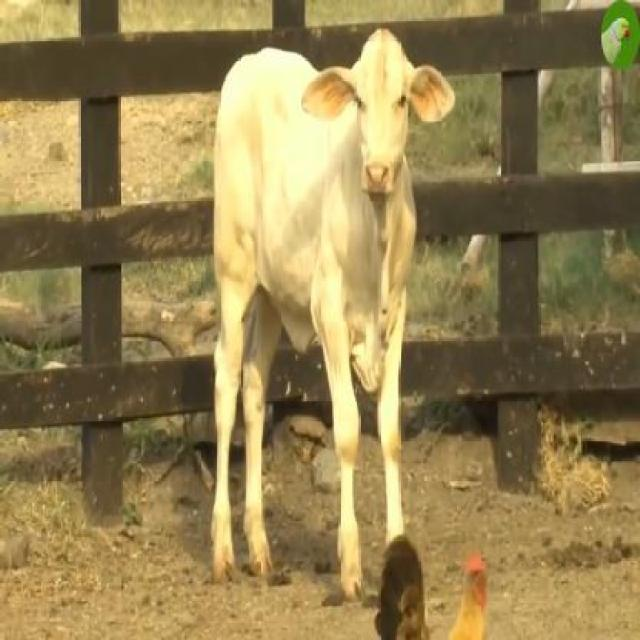Cow: (214, 28, 455, 586)
